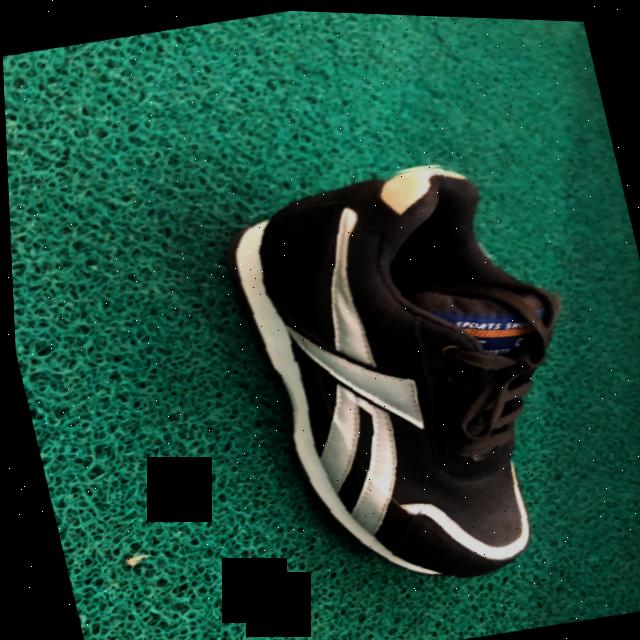shoe: (223, 165, 556, 575)
